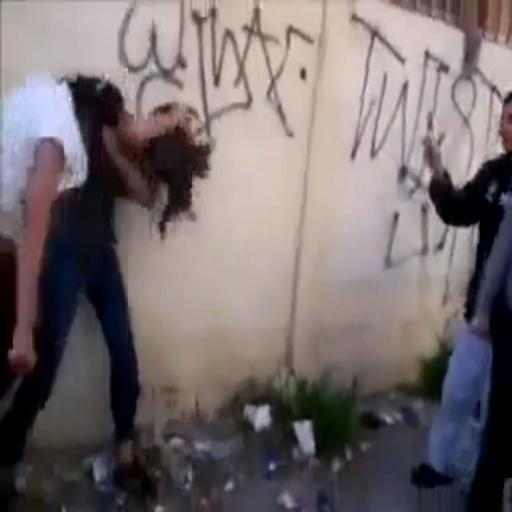violencia: (0, 51, 223, 512)
